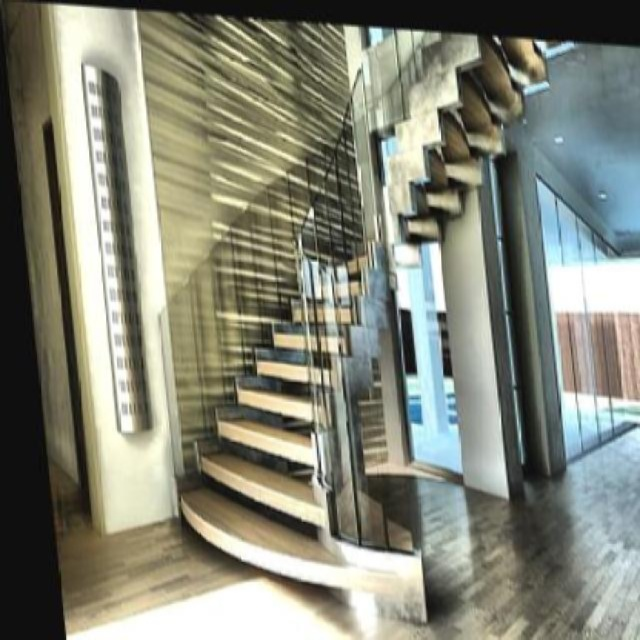stair: (136, 105, 405, 590)
